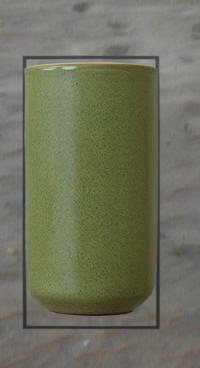pottedplant: (23, 56, 159, 328)
